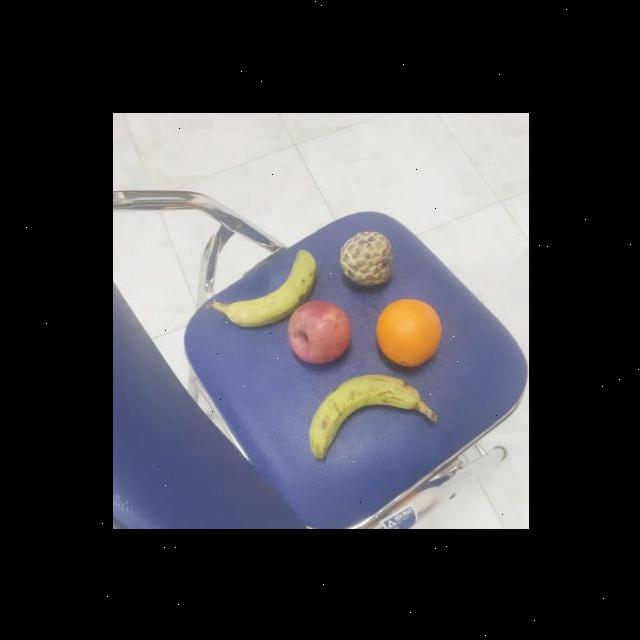Sakya fruit: (334, 228, 398, 288)
apple: (283, 296, 353, 362)
banana: (306, 371, 422, 458), (226, 248, 324, 326)
orange: (374, 295, 442, 367)
